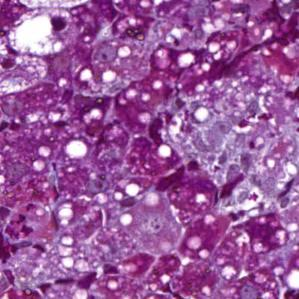ballooning: (7, 8, 80, 59)
